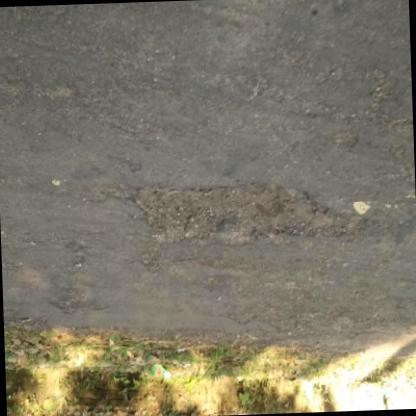pothole: (111, 178, 349, 246), (370, 60, 415, 148)
